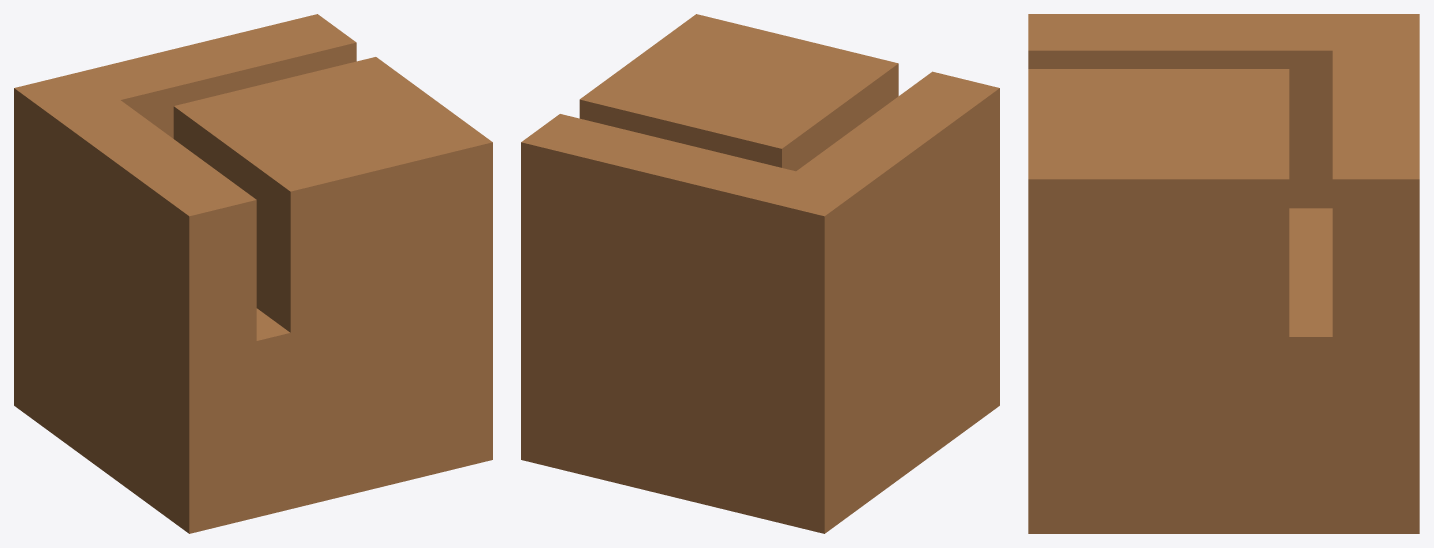
Rendered from Thin_Corner_Wide_Model.fbx.
The picture shows the model from 3 angles, left to right: view 1: azimuth 30°, elevation 25°; view 2: azimuth 150°, elevation 25°; view 3: azimuth 270°, elevation 25°; orthographic projection. The views are drawn at different scales.
Visible parts, largest first — view 1: Cube; view 2: Cube; view 3: Cube.
Part boxes in pixels (x1=…): Cube: x1=14, y1=14, x2=492, y2=533; Cube: x1=521, y1=14, x2=999, y2=533; Cube: x1=1028, y1=14, x2=1419, y2=533.
Size of the model in its own units: 100 by 100 by 100.
